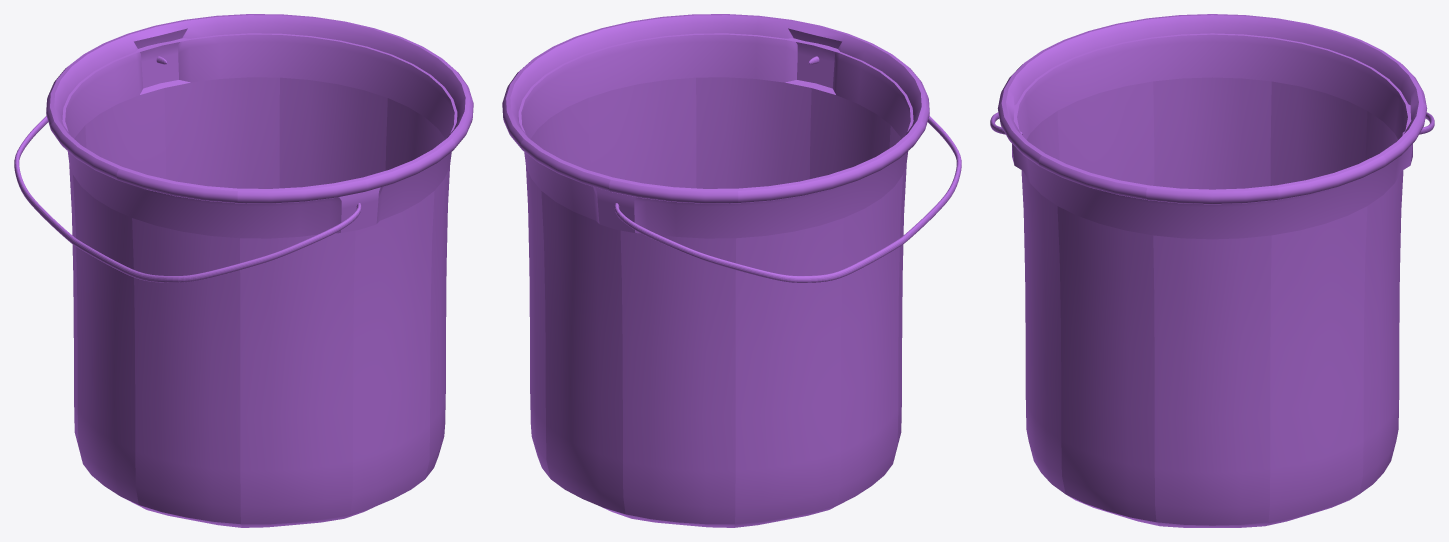
The model's file is PlasticBucket.fbx.
3 renders of one model, left to right at view 1: azimuth 30°, elevation 25°; view 2: azimuth 150°, elevation 25°; view 3: azimuth 270°, elevation 25°, orthographic.
Visible parts, largest first — view 1: PlasticBucket; view 2: PlasticBucket; view 3: PlasticBucket.
Boxes of the visible parts, x1,y1,x2,y2 form: PlasticBucket: (14, 14, 473, 527); PlasticBucket: (502, 14, 961, 527); PlasticBucket: (990, 14, 1434, 527).
Size of the model in its own units: 2.17 by 2 by 2.23.
